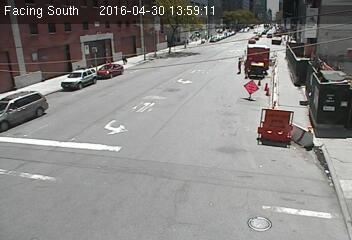neg: (273, 100, 299, 134), (266, 29, 276, 43), (301, 39, 310, 52)
pos: (232, 56, 246, 75), (117, 52, 129, 67)
